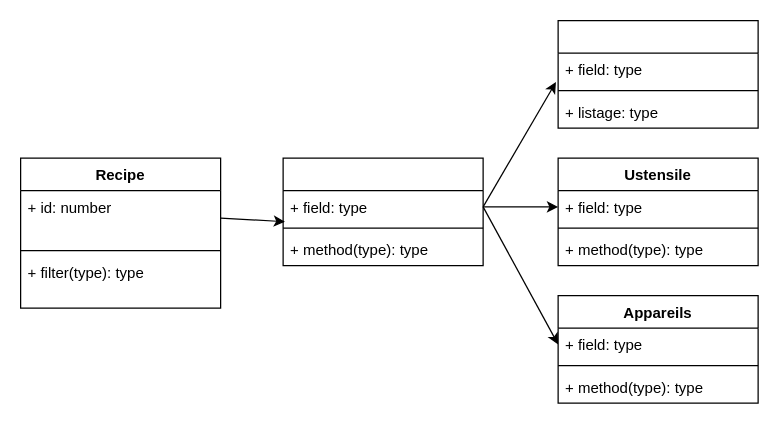
Some shapes in this 779 by 424 pixel diagram are drawn without their labels. The box of each missing label's shape, as (x1, y1, x2, y2) in pixels:
Factory: (282, 157, 483, 266)
Ingrédients: (557, 19, 758, 128)
